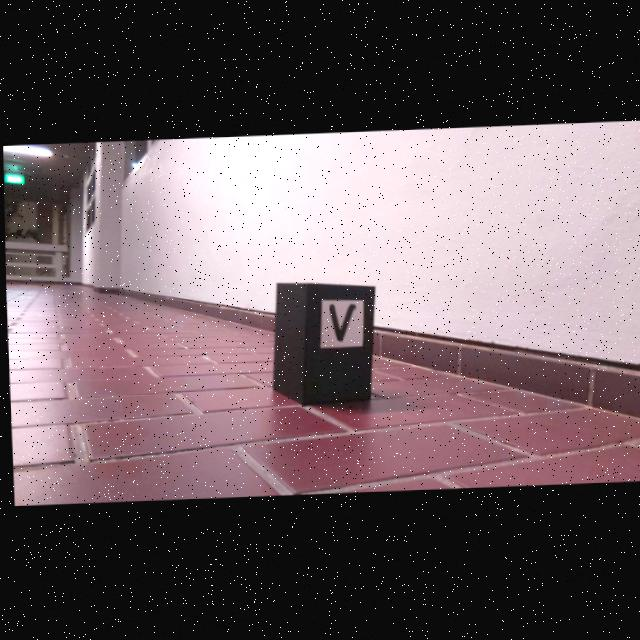V: (328, 304, 352, 342)
